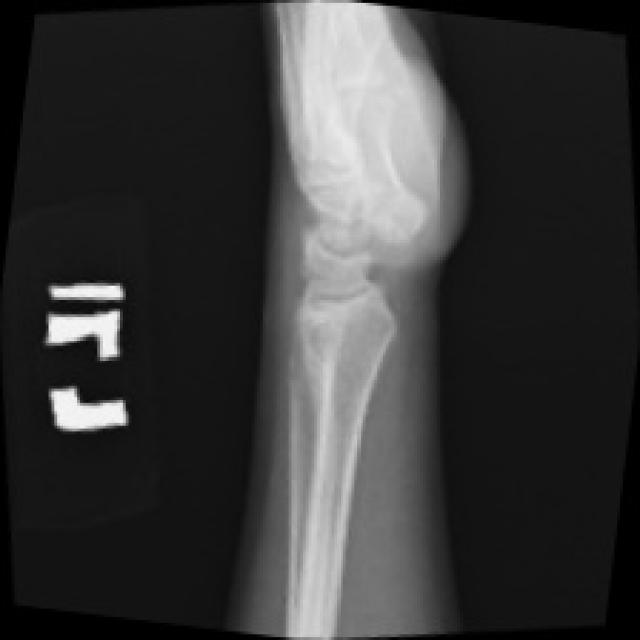fracture: (263, 166, 460, 395)
